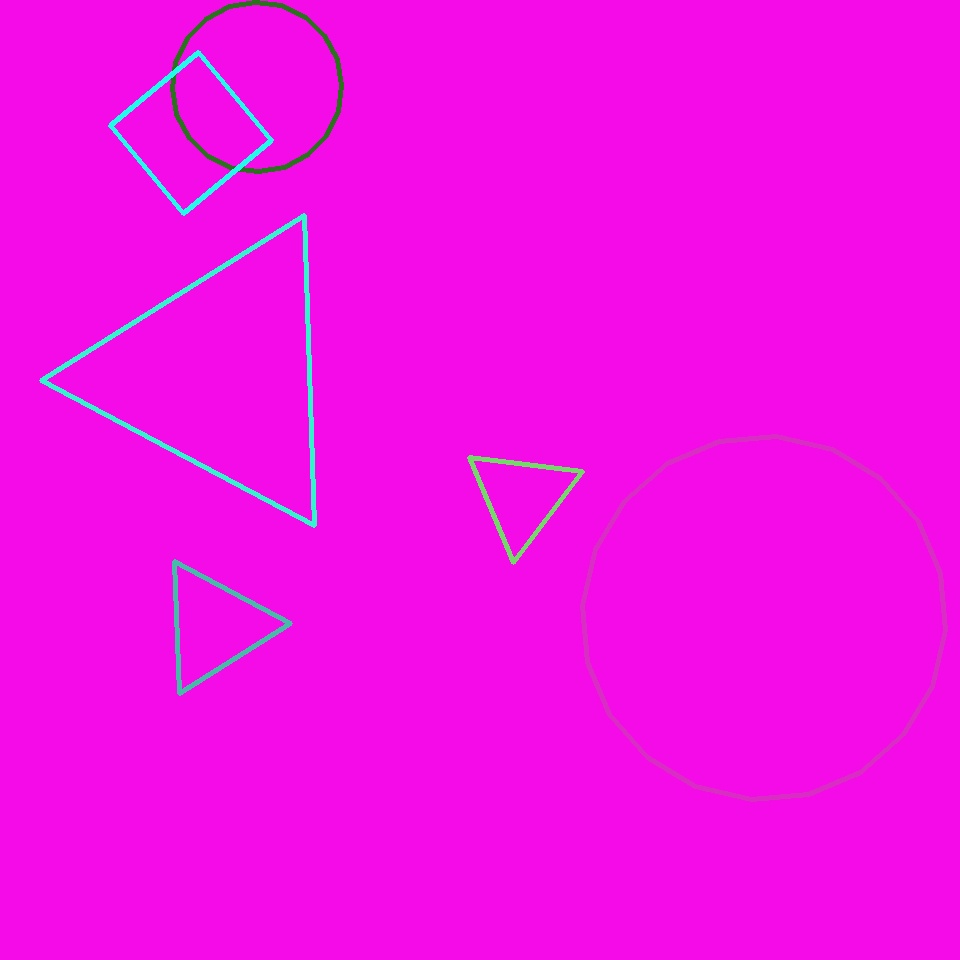circle: (84, 219, 356, 529), (157, 560, 273, 692), (466, 444, 578, 550)
square: (110, 53, 271, 214)
triangle: (582, 436, 946, 800), (172, 2, 342, 172)
